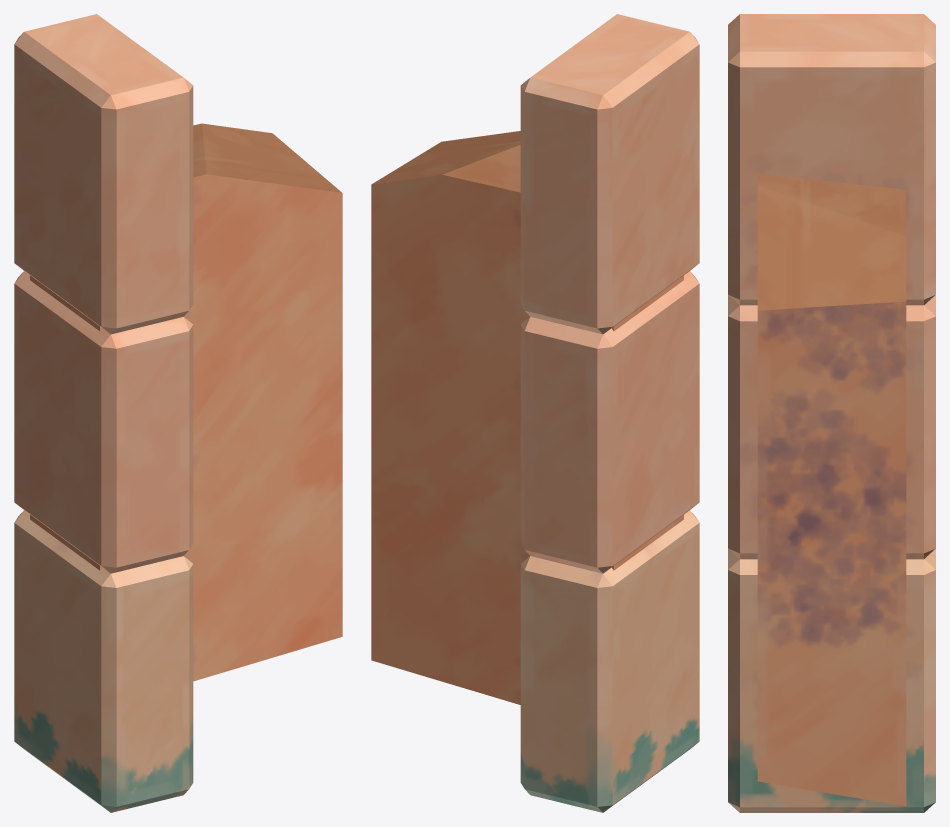
Rendered from wall_door_s03.fbx.
3 renders of one model, left to right at view 1: azimuth 30°, elevation 25°; view 2: azimuth 150°, elevation 25°; view 3: azimuth 270°, elevation 25°, orthographic. The views are drawn at different scales.
Parts seen in each view (by area): view 1: wall_door_s03; view 2: wall_door_s03; view 3: wall_door_s03.
Boxes of the visible parts, x1,y1,x2,y2 form: wall_door_s03: (14, 14, 342, 812); wall_door_s03: (371, 14, 699, 812); wall_door_s03: (728, 14, 935, 812).
Bounding box in the file's own units: 2.06 × 5.66 × 1.4.
